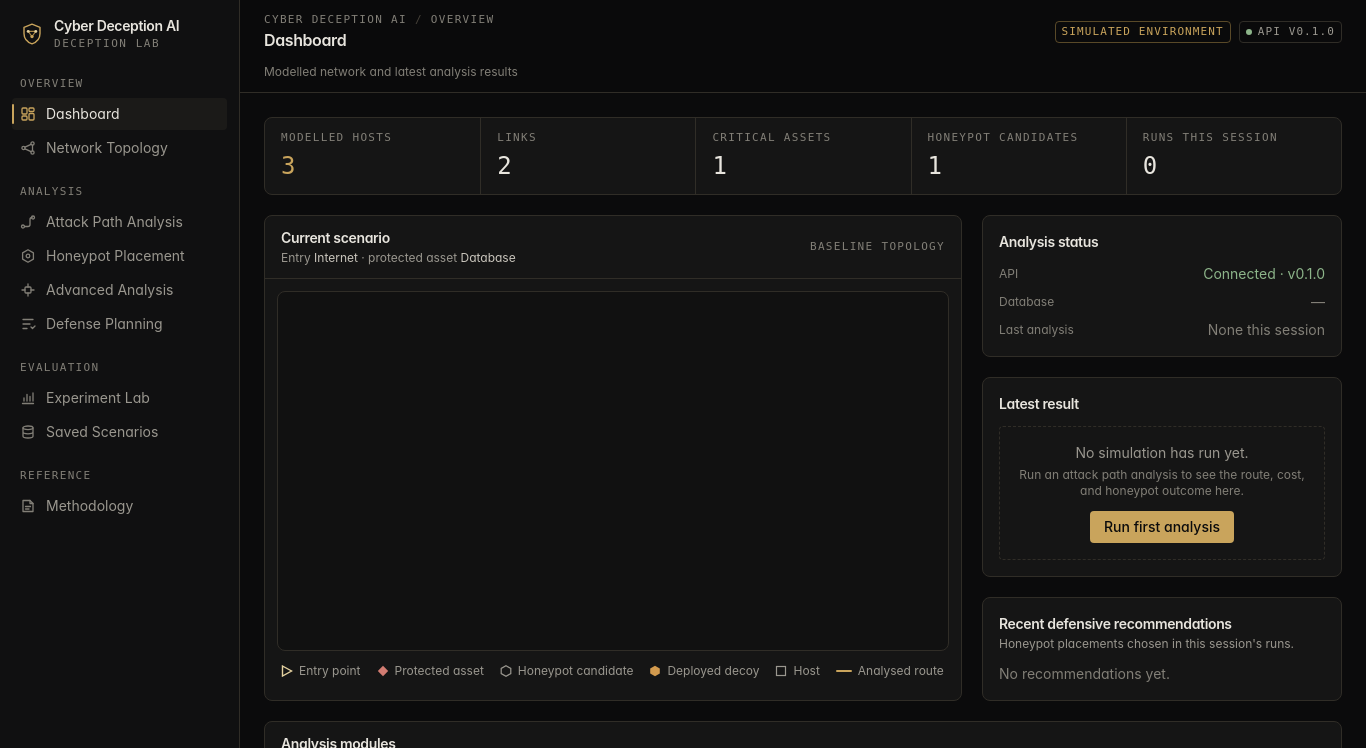
it: App navigation › shows real metrics and an empty state before any run, then the latest result
Expected: the text "No simulation has run yet." is shown, [1076,444,1248,461]
Expected: the text "3" is shown, [281,152,296,180]
Click the button "Attack Path Analysis".
click(120, 222)  # box [12,206,227,238]
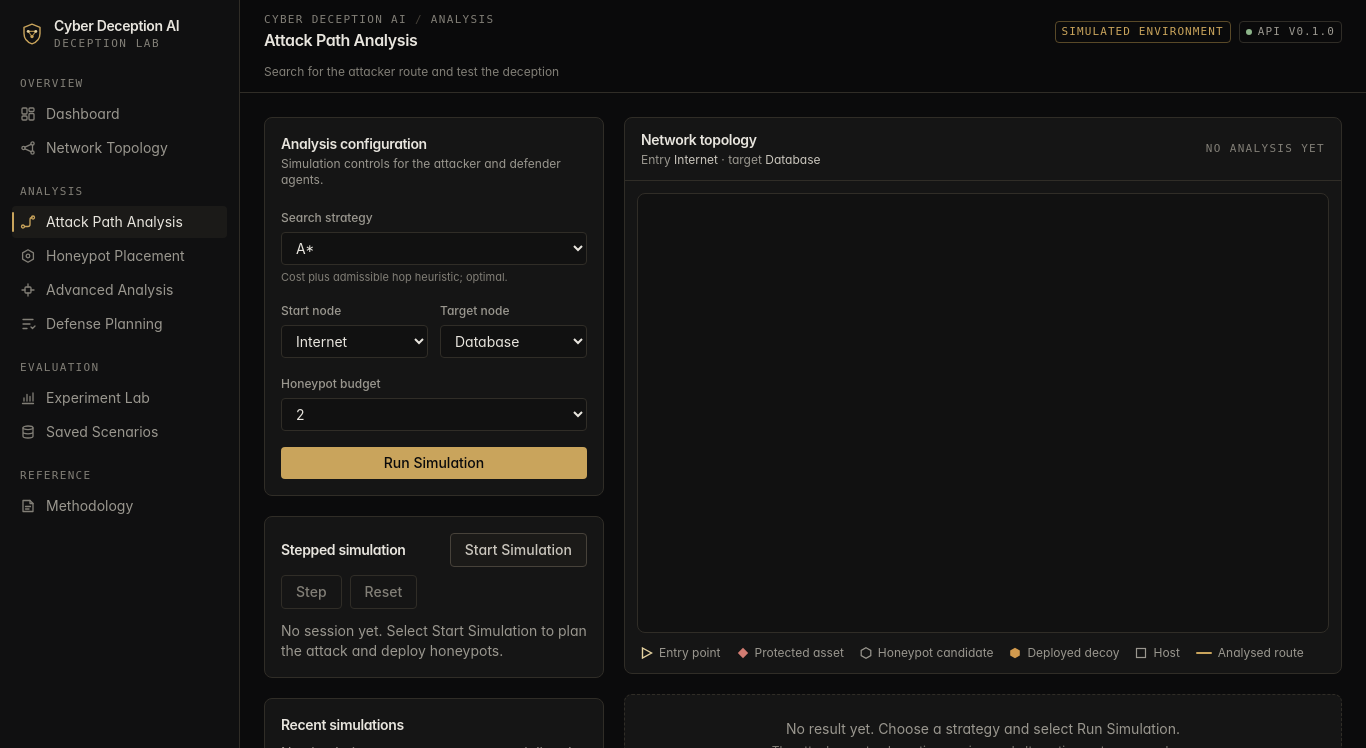
Click the button "Run Simulation".
click(434, 463)  # box [281,447,587,479]
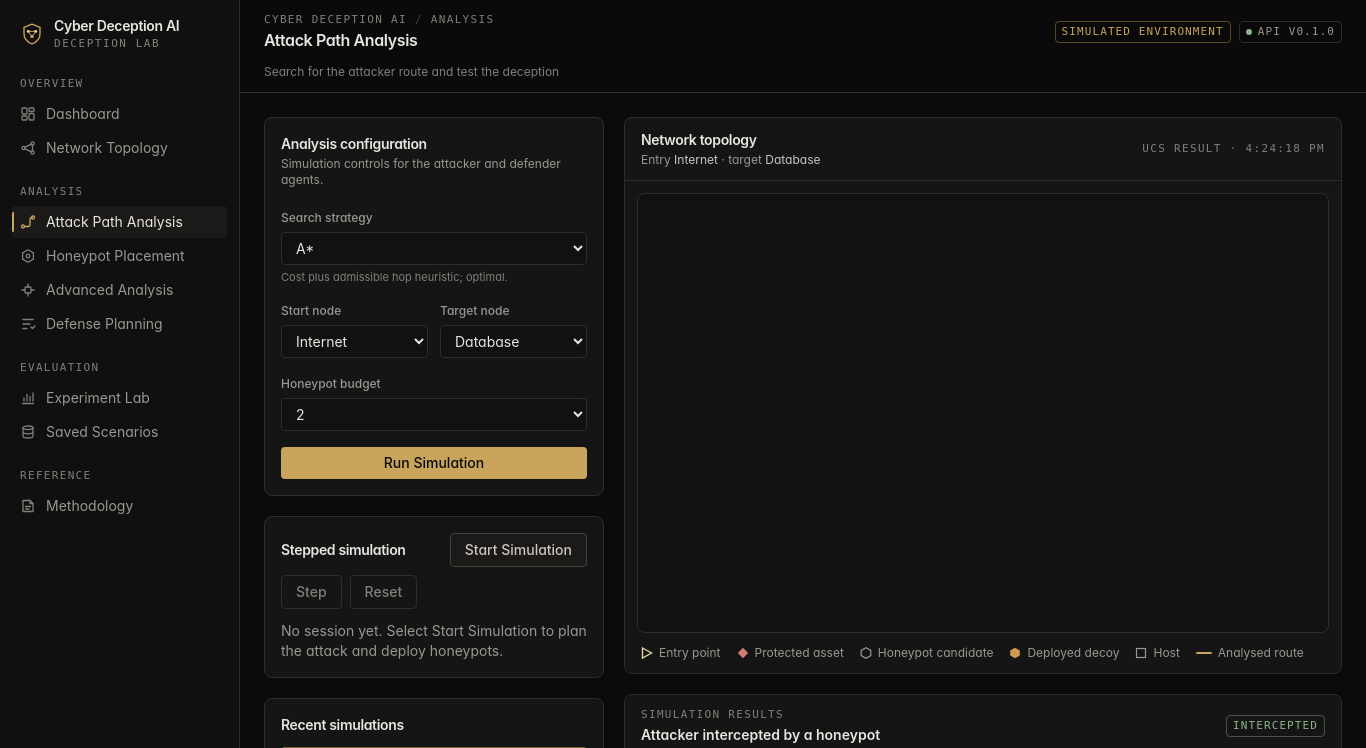
Expected: the heading "Attacker intercepted by a honeypot" is shown, [641,725,880,745]
Click the button "Dashboard".
click(120, 114)  # box [12,98,227,130]
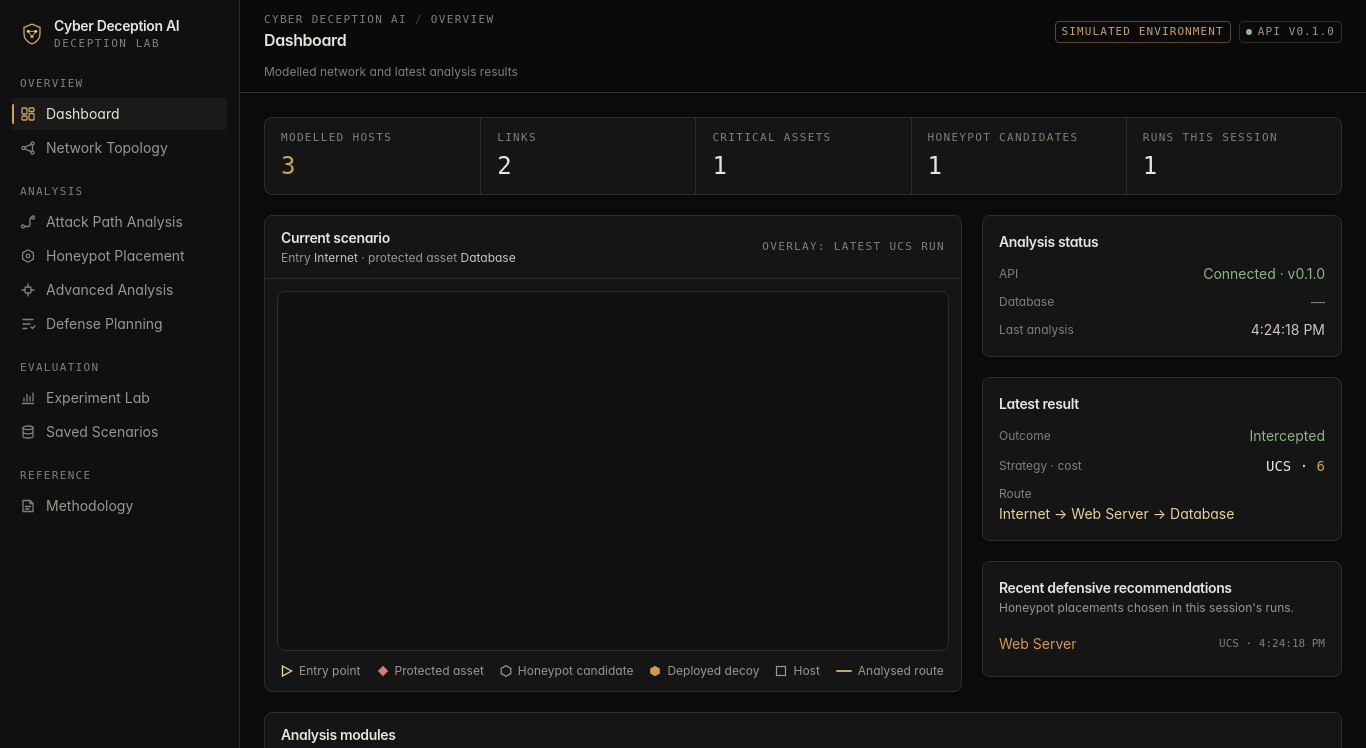
Expected: the text "No simulation has run yet." is not shown
Expected: the text "Intercepted" is shown, [1249,426,1325,446]
Expected: the heading "Latest result" is shown, [999,395,1079,412]
